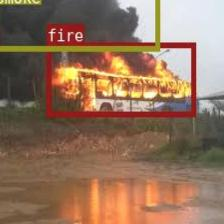fire: (46, 43, 194, 116)
smoke: (0, 0, 159, 50)
